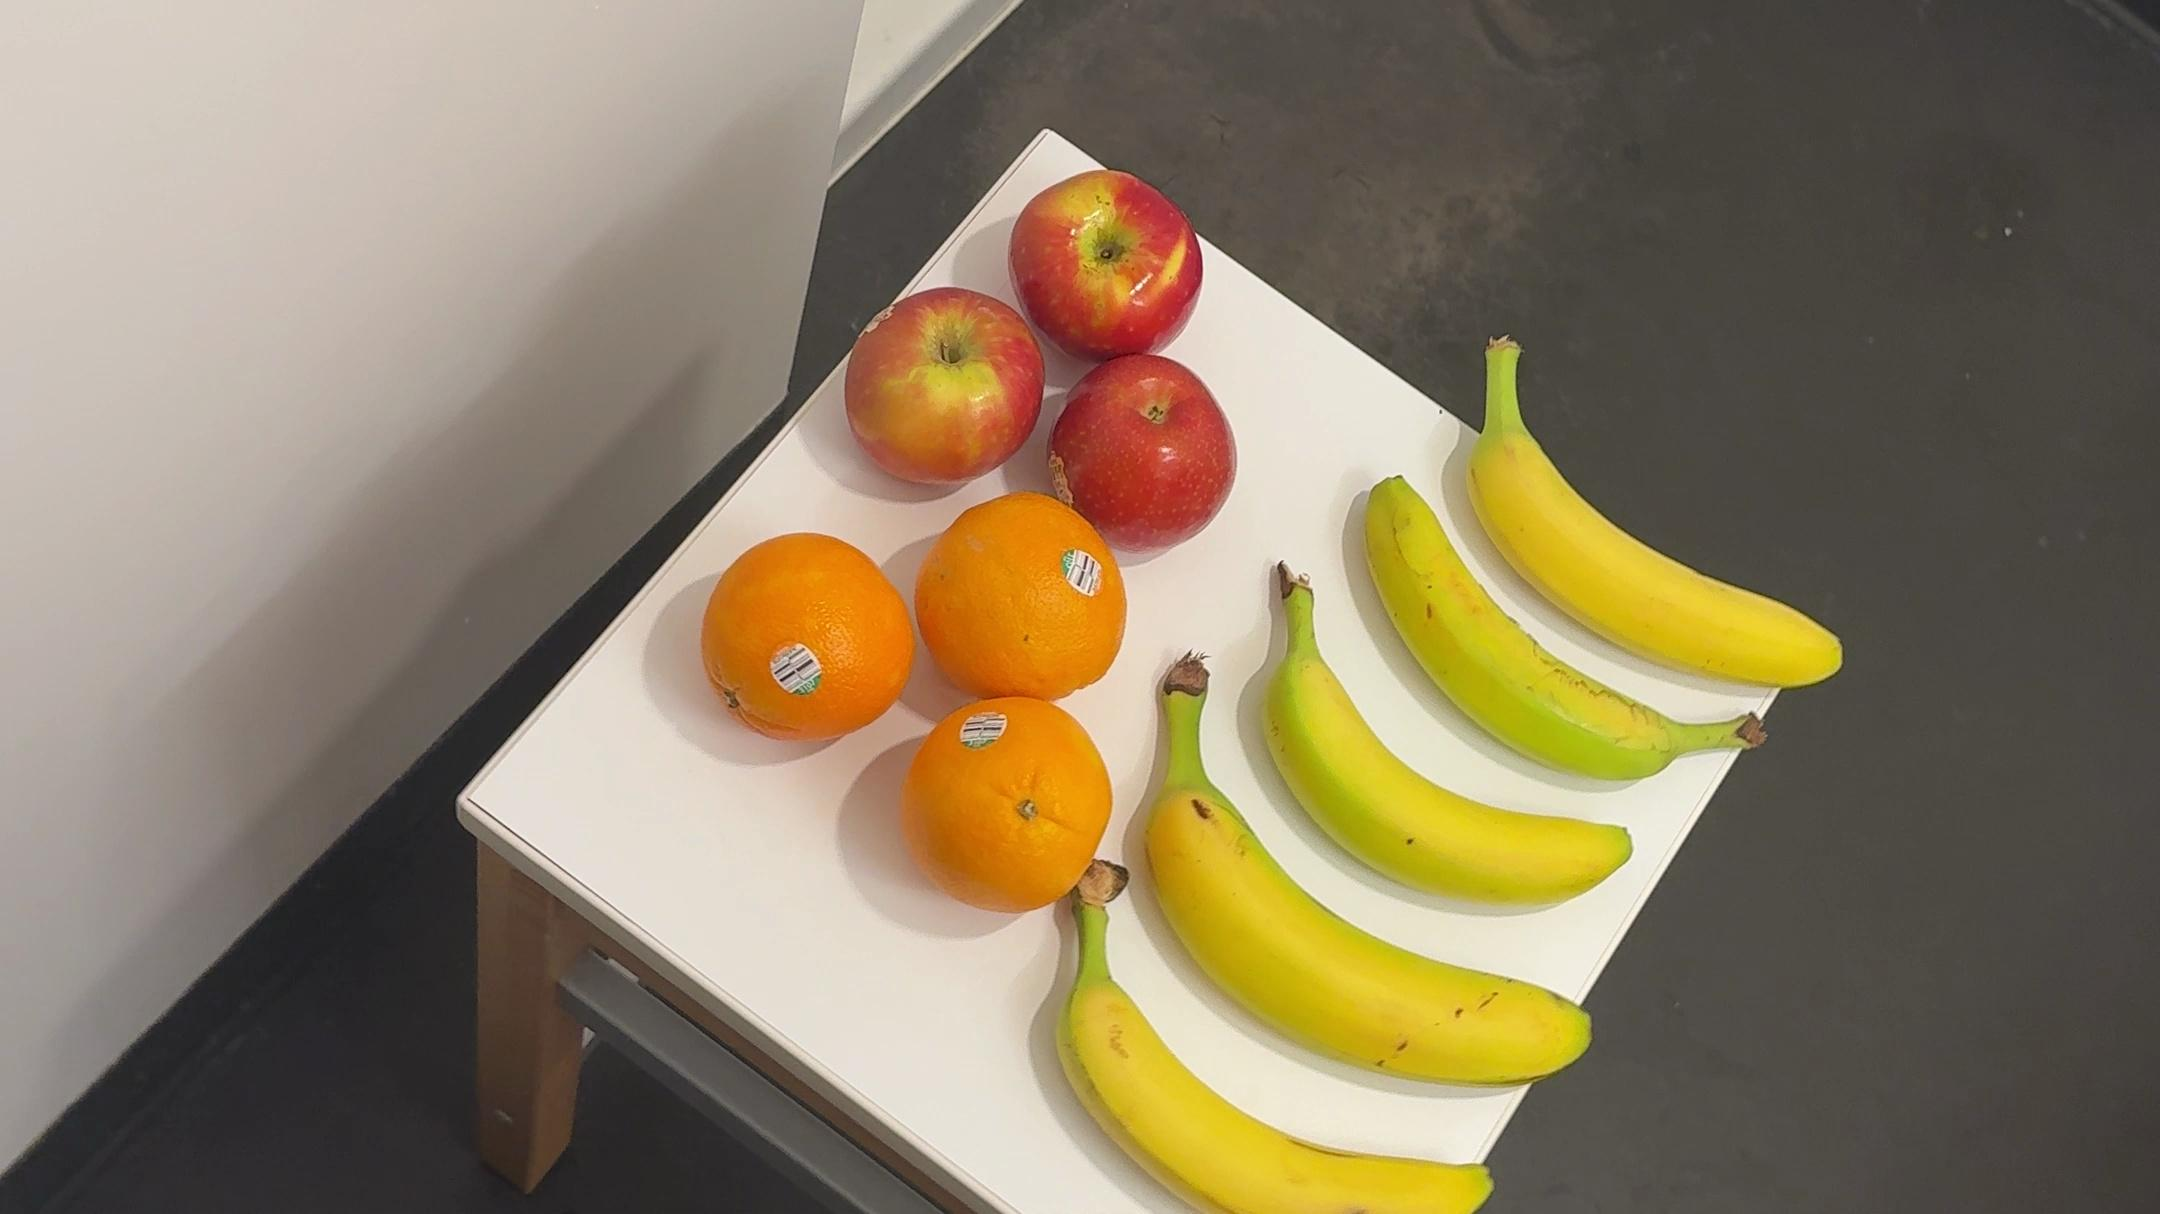apple: (829, 280, 1035, 490), (1041, 352, 1245, 560), (1009, 160, 1208, 358)
banana: (1116, 653, 1602, 1086), (1015, 873, 1501, 1214), (1449, 331, 1860, 696), (1231, 571, 1639, 922), (1349, 459, 1770, 785)
orange: (893, 699, 1113, 920), (912, 485, 1132, 705), (694, 548, 909, 755)
